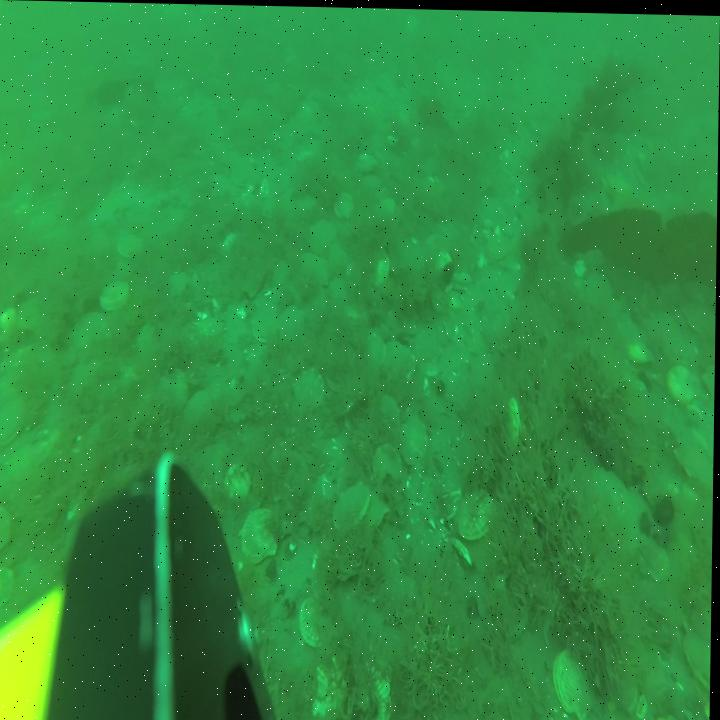scallop: (578, 453, 642, 564), (557, 647, 596, 720), (677, 425, 715, 488), (243, 505, 282, 565), (460, 486, 493, 543), (336, 482, 371, 533), (303, 594, 334, 649), (382, 336, 414, 382), (370, 393, 401, 440), (161, 369, 192, 416), (296, 367, 328, 410), (224, 464, 254, 508), (299, 248, 332, 288), (0, 400, 29, 444), (251, 303, 281, 345), (667, 361, 695, 404), (402, 412, 425, 464), (375, 443, 402, 486), (0, 499, 15, 569), (103, 280, 133, 315), (586, 270, 612, 309), (309, 217, 336, 252), (119, 230, 144, 262), (372, 247, 392, 286), (334, 187, 355, 219)
